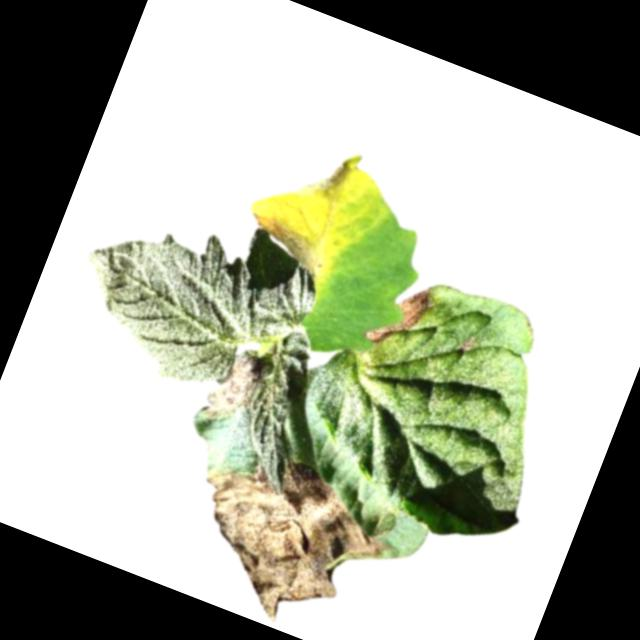Late_blight: (165, 433, 406, 640), (197, 339, 271, 434), (237, 208, 333, 277), (362, 275, 434, 357), (293, 135, 367, 212), (455, 333, 481, 362)
healthy: (52, 171, 332, 420)
